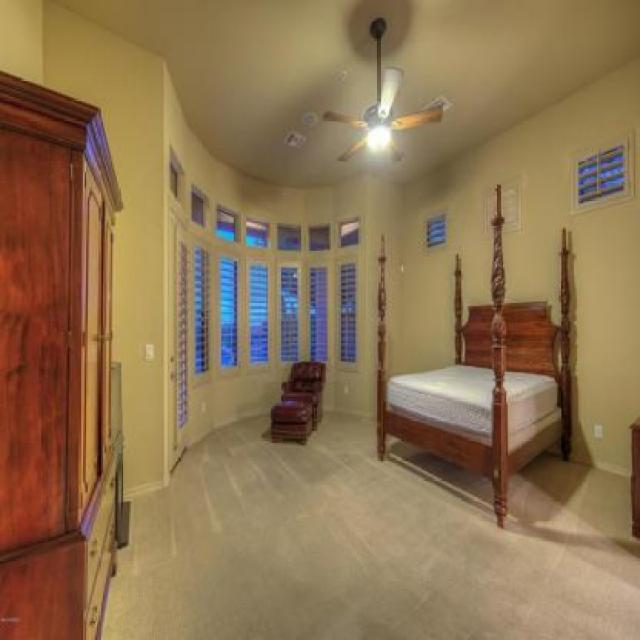Floor: (100, 411, 639, 639)
